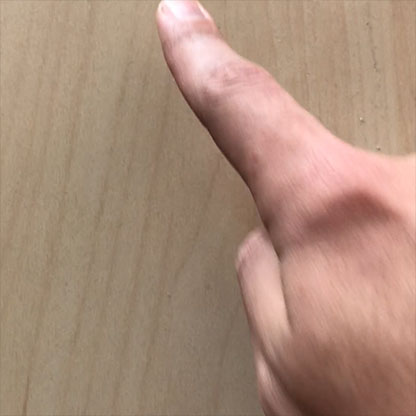fingertip: (145, 1, 230, 37)
